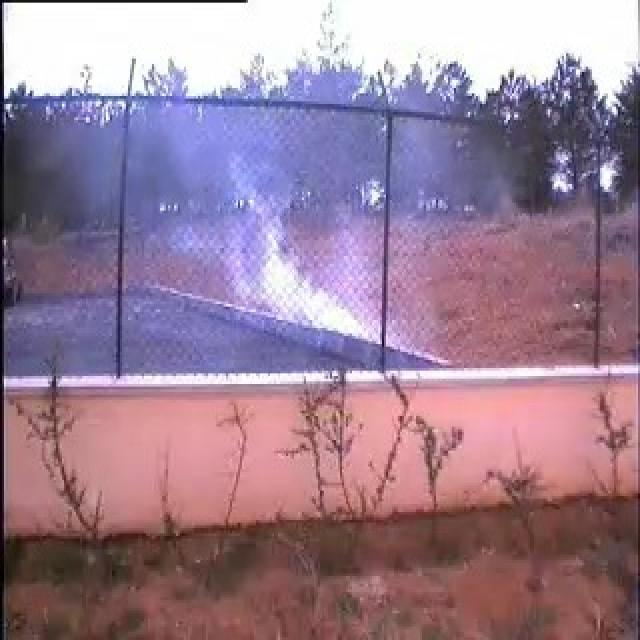smoke: (179, 121, 380, 347)
